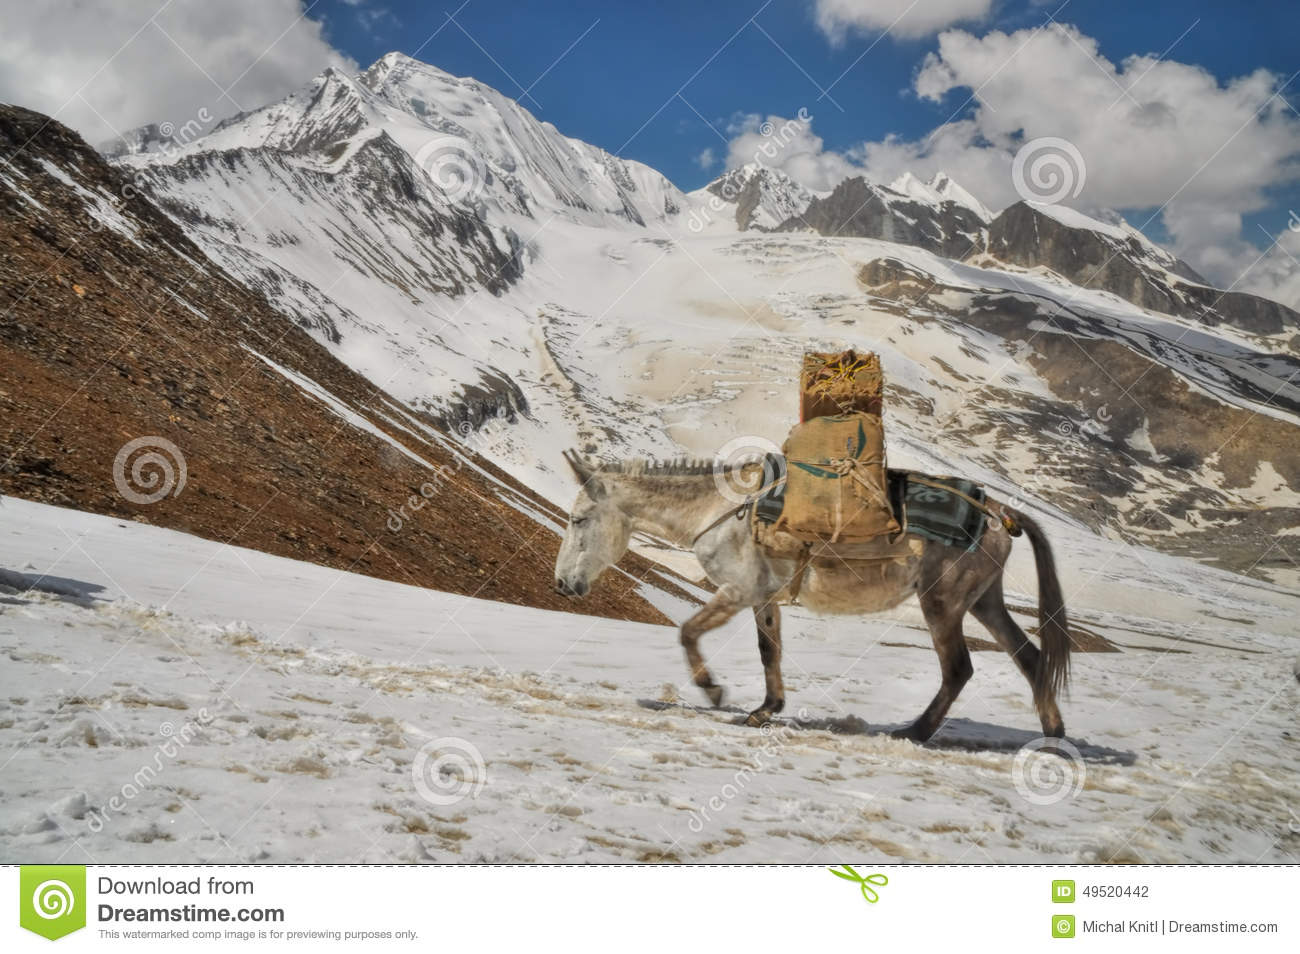equine: (527, 412, 1135, 764)
